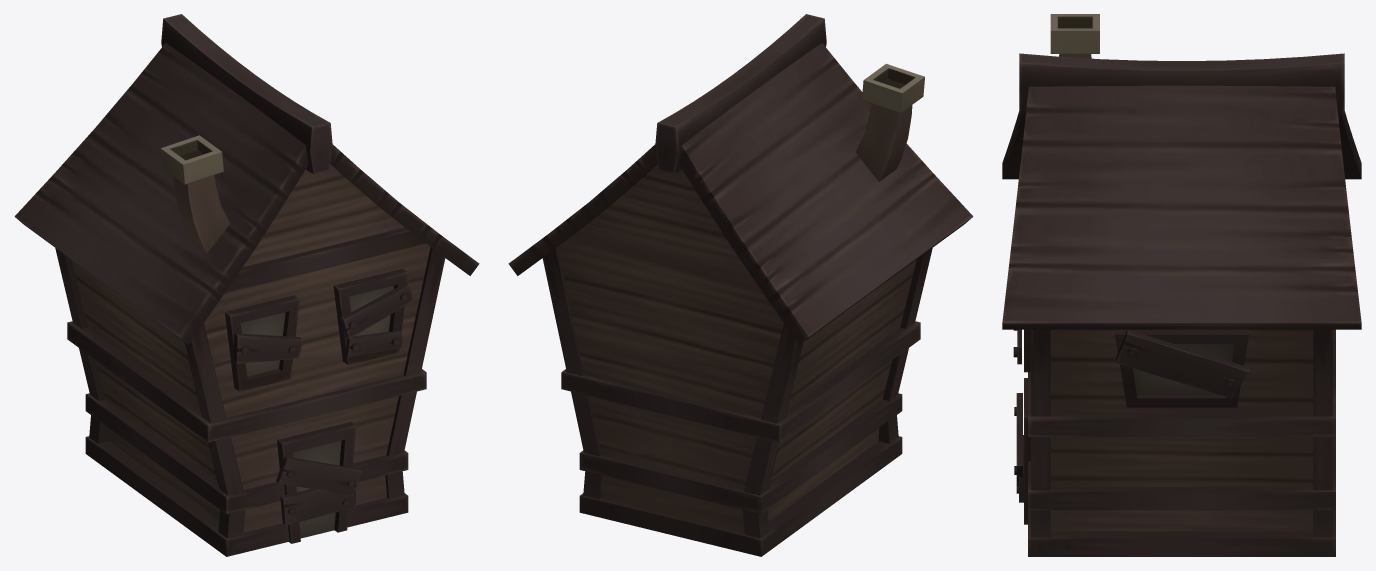
File: Woodhouse.fbx
3 views of the same model, side by side, from view 1: azimuth 30°, elevation 25°; view 2: azimuth 150°, elevation 25°; view 3: azimuth 270°, elevation 25° (orthographic). The views are drawn at different scales.
Visible parts, largest first — view 1: house, Chimney; view 2: house, Chimney; view 3: house, Chimney.
Part boxes in pixels (<box>): house: <box>14,14,479,556</box>; Chimney: <box>160,135,230,253</box>; house: <box>508,14,973,556</box>; Chimney: <box>855,63,924,181</box>; house: <box>1002,53,1361,556</box>; Chimney: <box>1050,14,1099,58</box>.
Bounding box in the file's own units: 401 × 527 × 380.
